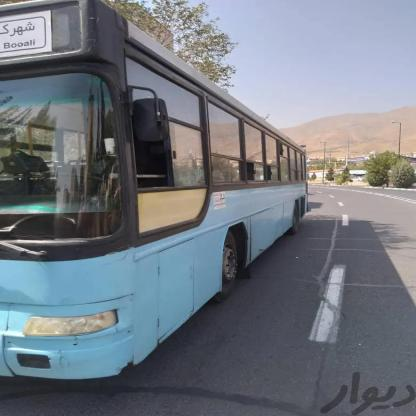Bus: (0, 0, 305, 416)
